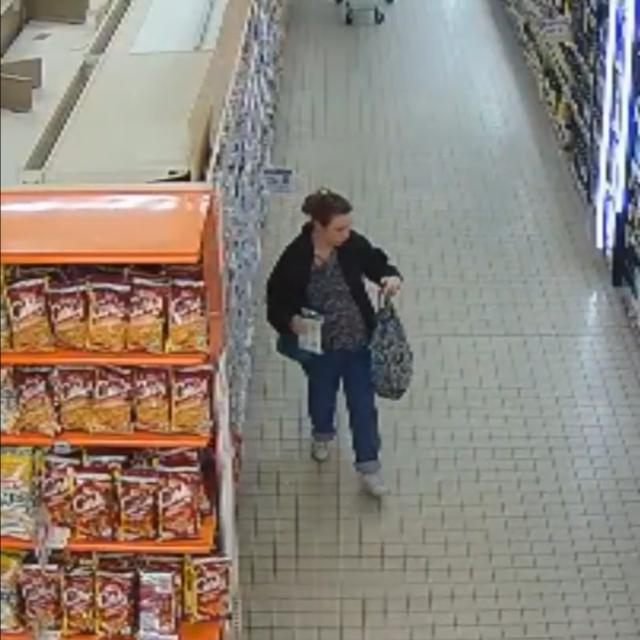article: (296, 309, 323, 357)
bags: (371, 300, 413, 400), (277, 335, 316, 373)
hands: (380, 277, 402, 297), (291, 316, 306, 335)
person: (267, 190, 401, 496)
